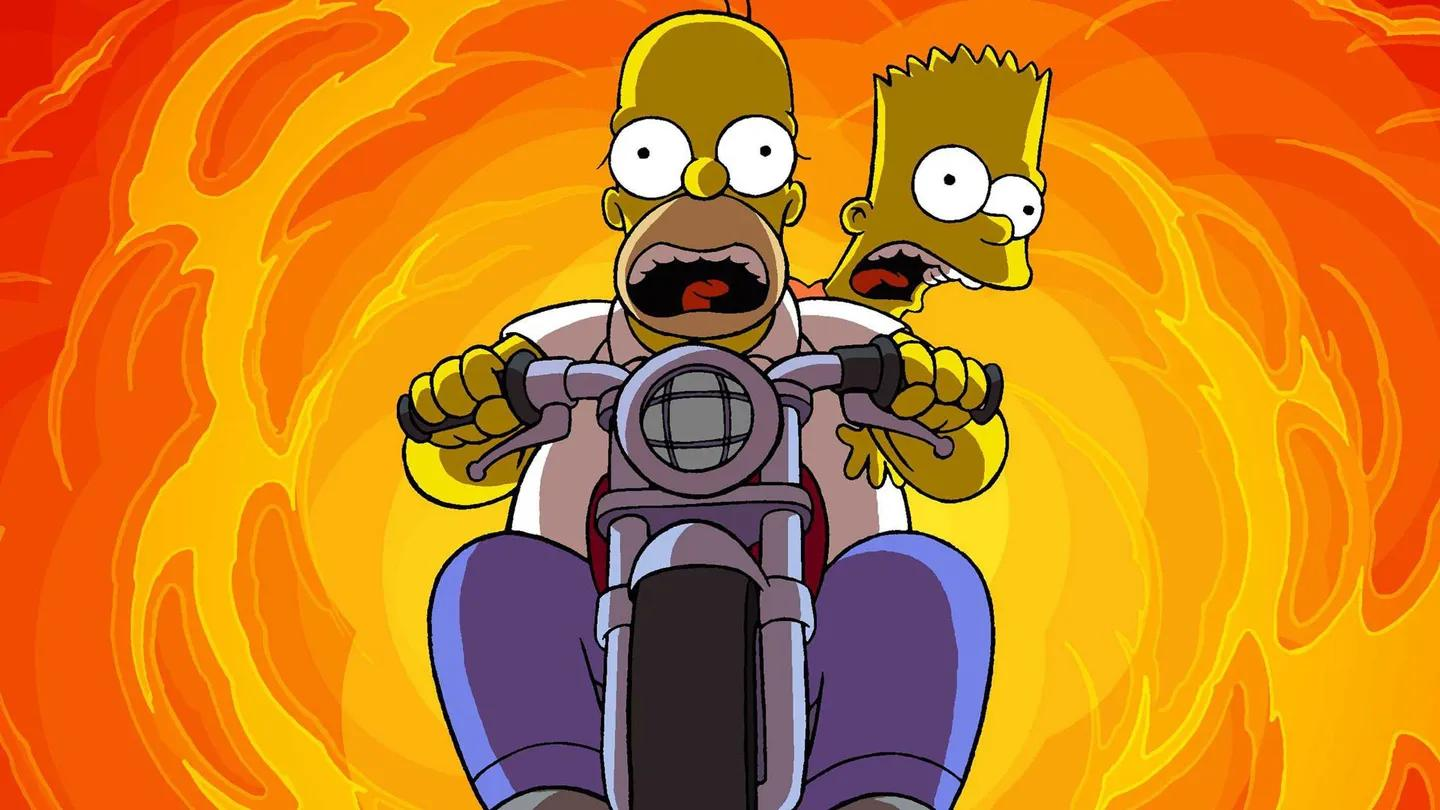Bart: (813, 31, 1127, 409)
Homer: (540, 15, 864, 492)
